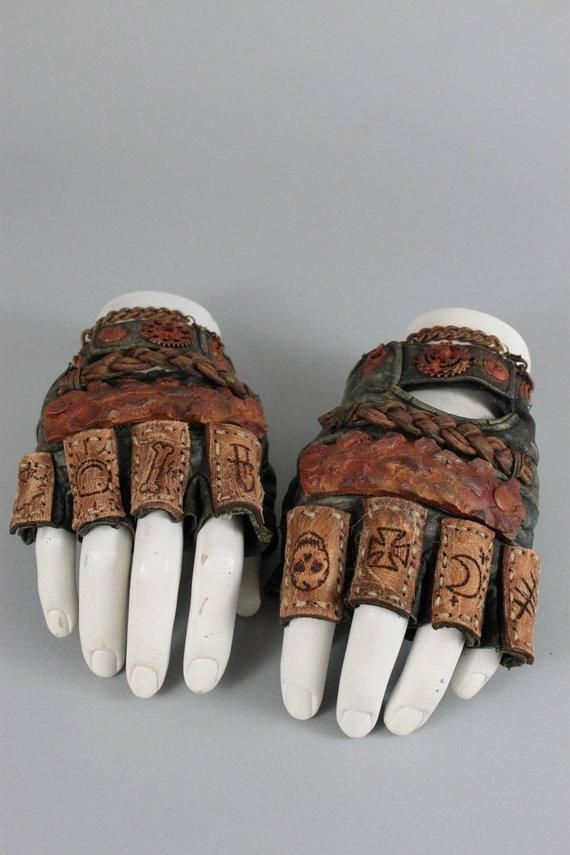cuero: (11, 306, 542, 670)
